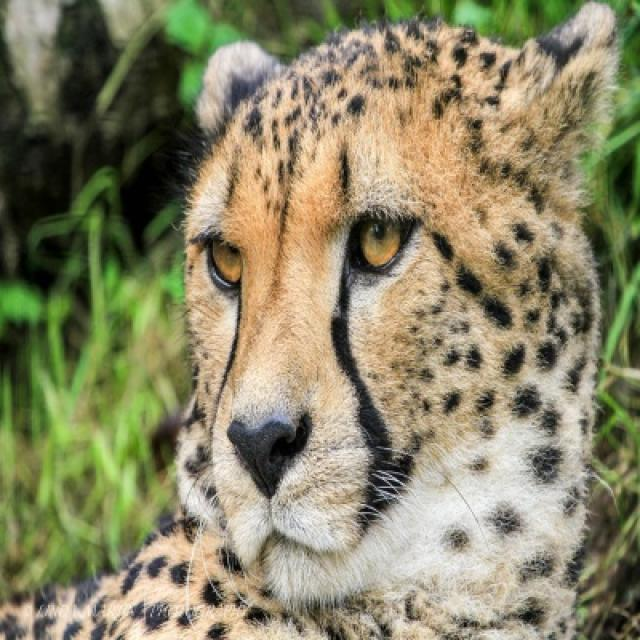Cheetah: (24, 2, 622, 638)
